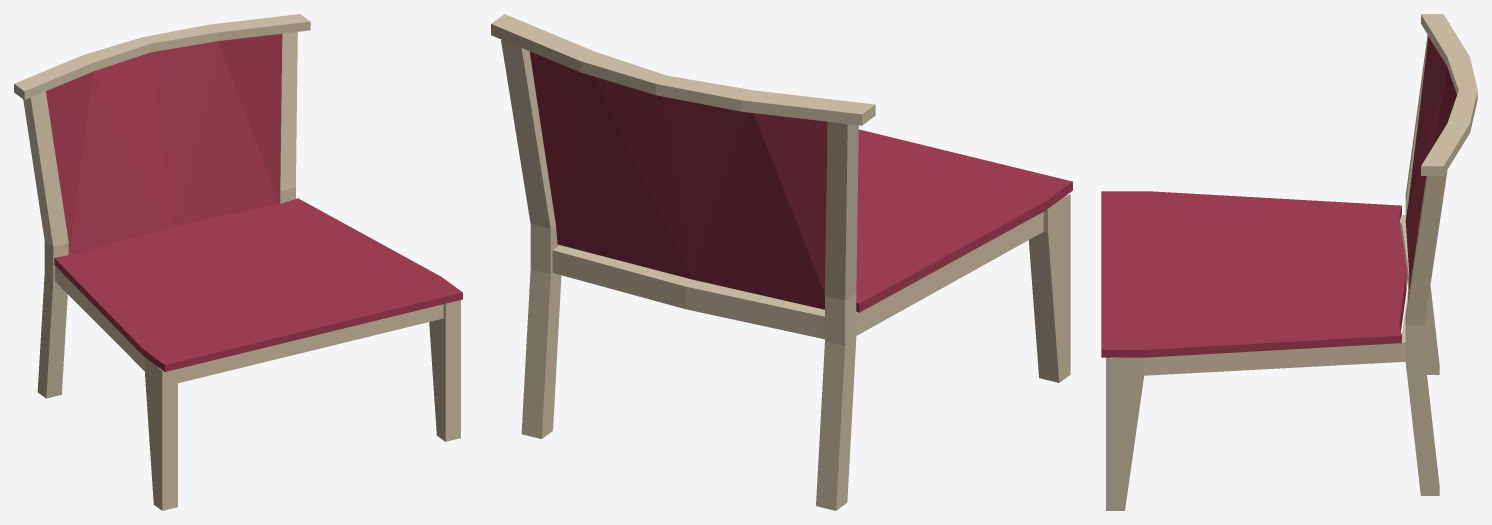
Rendered from sh-contrib-chair-office-y.glb.
3 views of the same model, side by side, from view 1: azimuth 30°, elevation 25°; view 2: azimuth 150°, elevation 25°; view 3: azimuth 270°, elevation 25° (orthographic). The views are drawn at different scales.
Visible parts, largest first — view 1: 3_3, 1_1; view 2: 3_3, 1_1; view 3: 3_3, 1_1.
Boxes of the visible parts, x1,y1,x2,y2 form: 3_3: (46,33,462,371); 1_1: (14,14,460,510); 3_3: (529,51,1072,312); 1_1: (491,14,1070,510); 3_3: (1101,36,1456,357); 1_1: (1106,14,1477,510).
Size of the model in its own units: 1 by 1 by 1.
